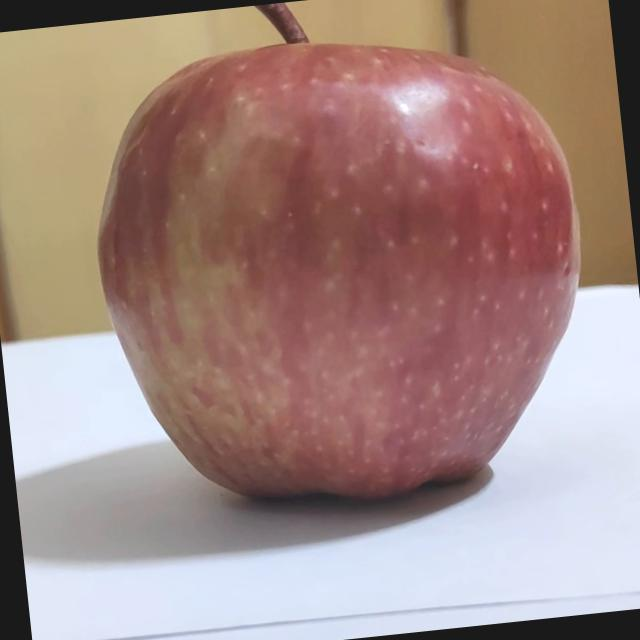apple: (66, 0, 607, 534)
